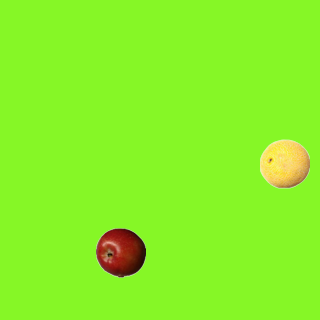Apple Braeburn: (95, 227, 145, 277)
Cantaloupe 1: (259, 138, 309, 188)
